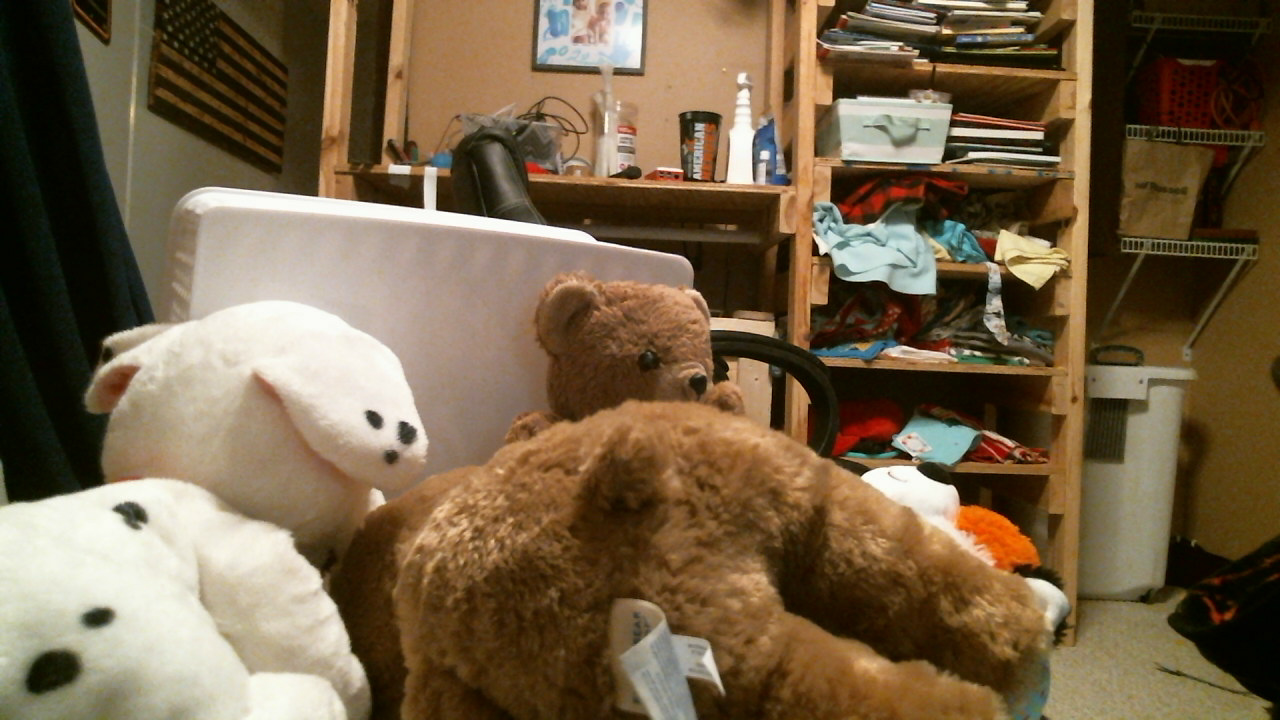Little_Mister_Bear: (639, 339, 713, 413)
